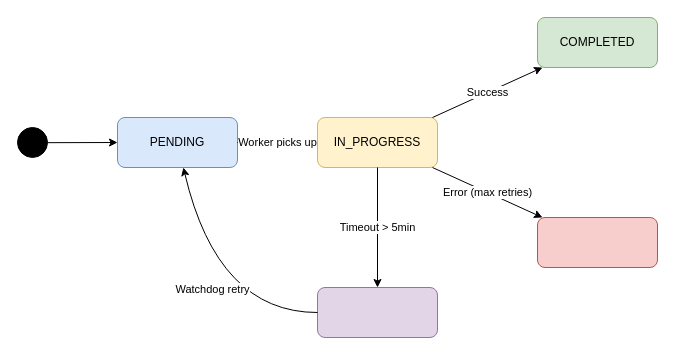
Some shapes in this 675 by 355 pixel diagram are drawn without their labels. Here are the shapes that lost their labels. From the top down, the centre of each, then its label:
At (x=597, y=242): "FAILED".
At (x=377, y=312): "STUCK".
